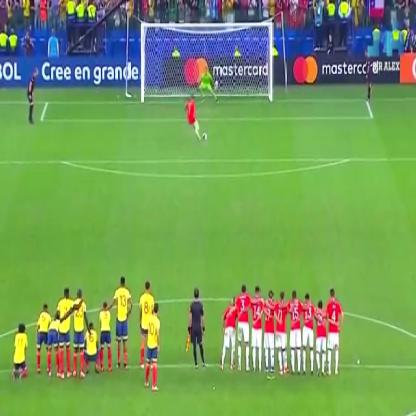penalty kick: (145, 10, 224, 177)
